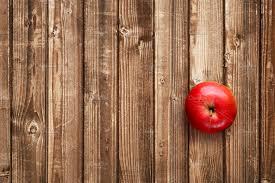apple: (185, 80, 238, 135)
